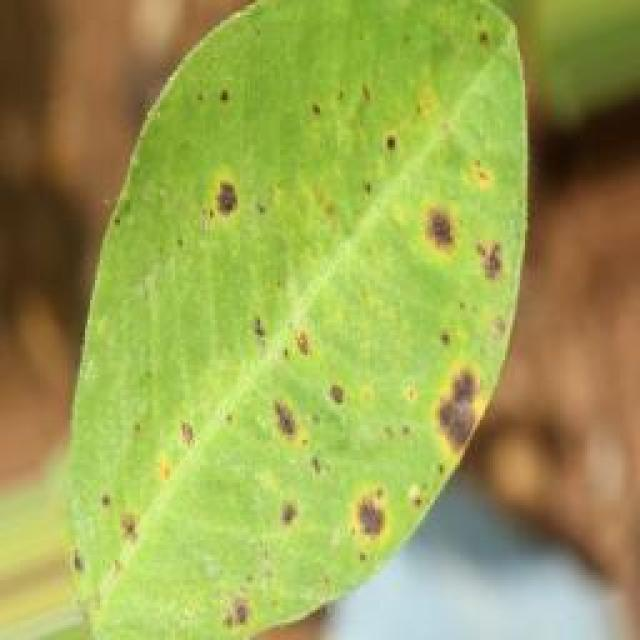Yellowish: (14, 24, 570, 631)
